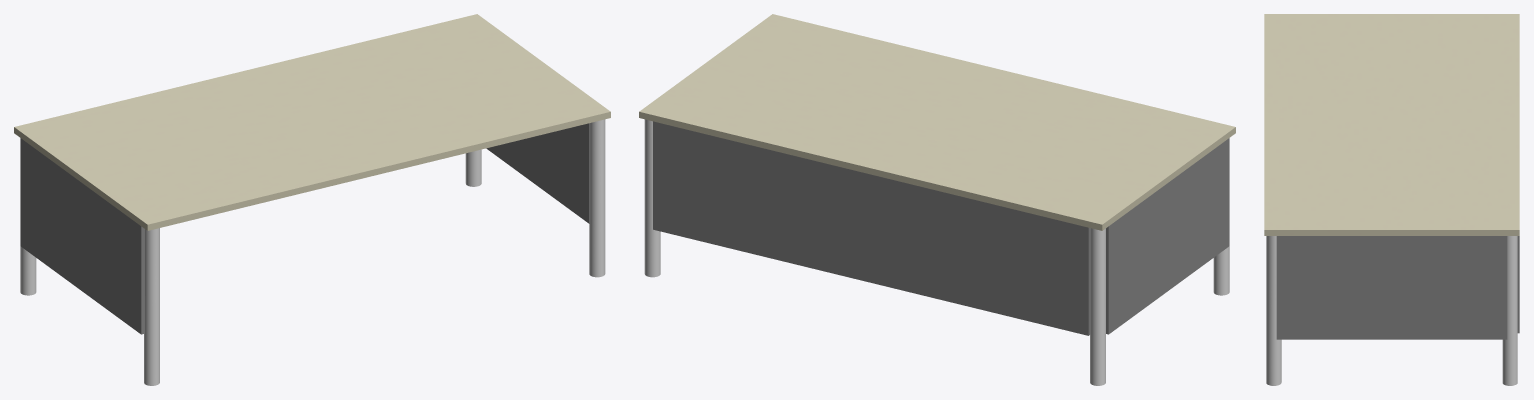
The model's file is entrance table.fbx.
The picture shows the model from 3 angles, left to right: view 1: azimuth 30°, elevation 25°; view 2: azimuth 150°, elevation 25°; view 3: azimuth 270°, elevation 25°; orthographic projection. The views are drawn at different scales.
Visible parts, largest first — view 1: pCube450; view 2: pCube450; view 3: pCube450.
Part boxes in pixels (x1,y1,x2,y2): pCube450: [14, 14, 610, 385]; pCube450: [639, 14, 1235, 385]; pCube450: [1264, 14, 1519, 385].
Bounding box in the file's own units: 3.19 × 1.08 × 1.59.
1 material, 1 textured.
